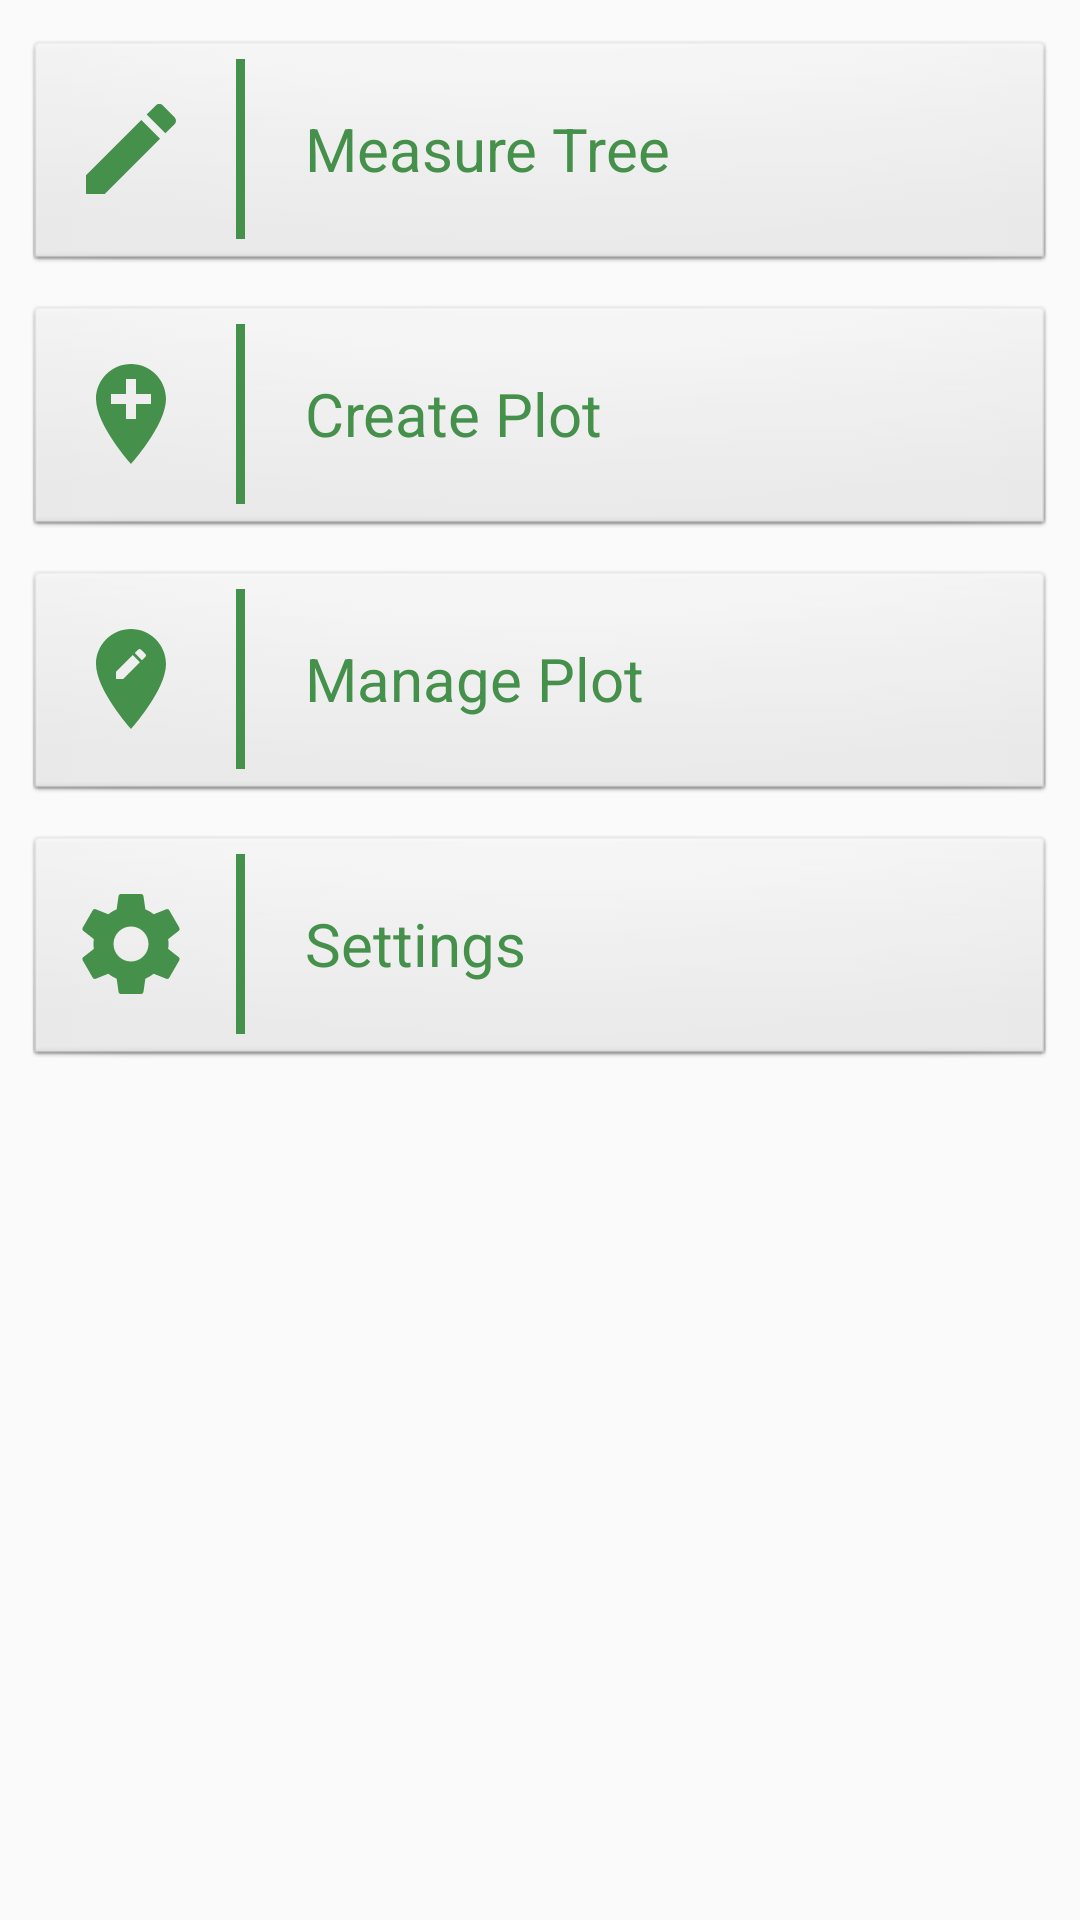

Icons on this 1080 x 1920 Android screen, each with the point to tap as point (x, y):
add location: point (131, 414)
edit location: point (131, 679)
mode edit: point (131, 149)
